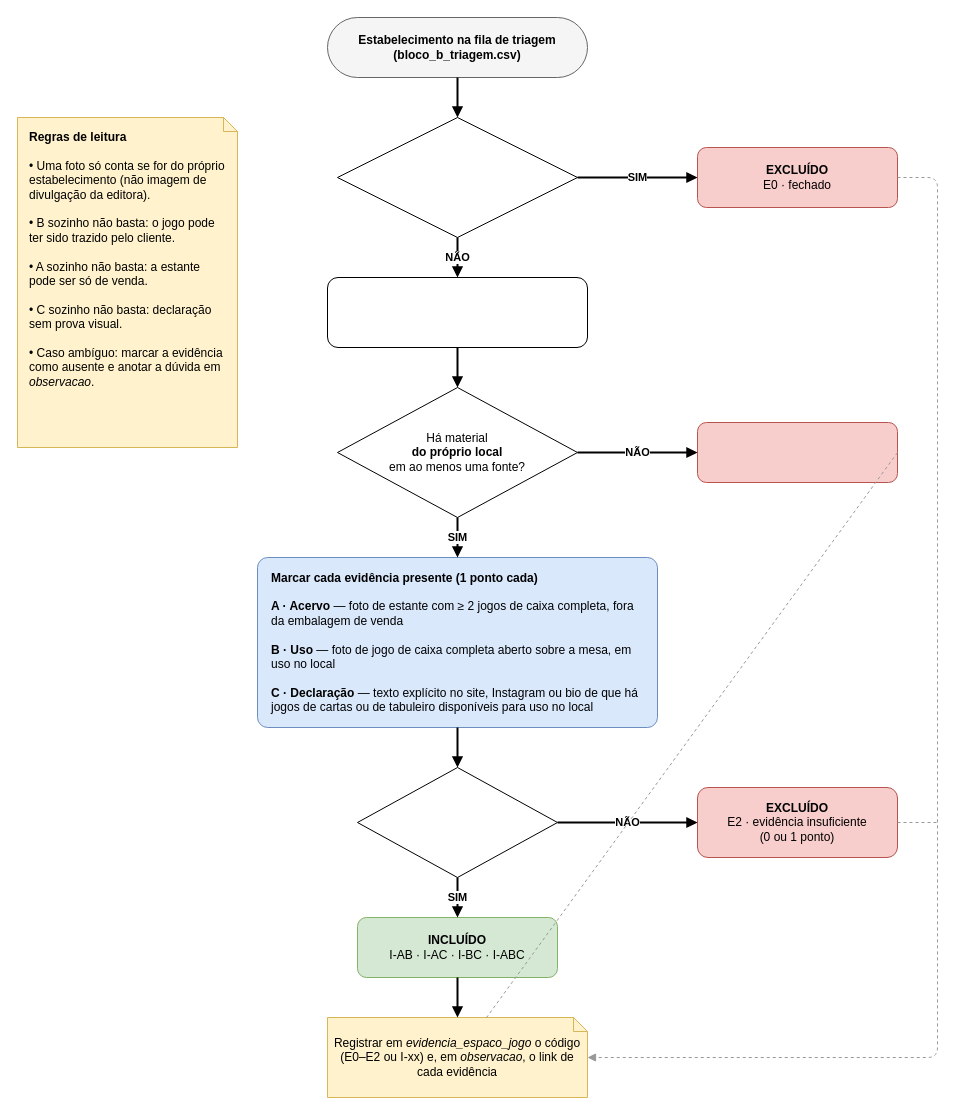
Image size: 963x1115. Some labels were removed from this diagram. Here are the shapes that lost their labels. From the top down, the centre of each, then its label:
the point at 457,177: Google Maps indica fechado permanentemente ?
the point at 457,312: Reunir fotos e publicações dos últimos 24 meses Google Maps · Instagram · site
the point at 797,452: EXCLUÍDO E1 · sem evidência verificável
the point at 457,822: Pontuação ≥ 2 de 3 ?
